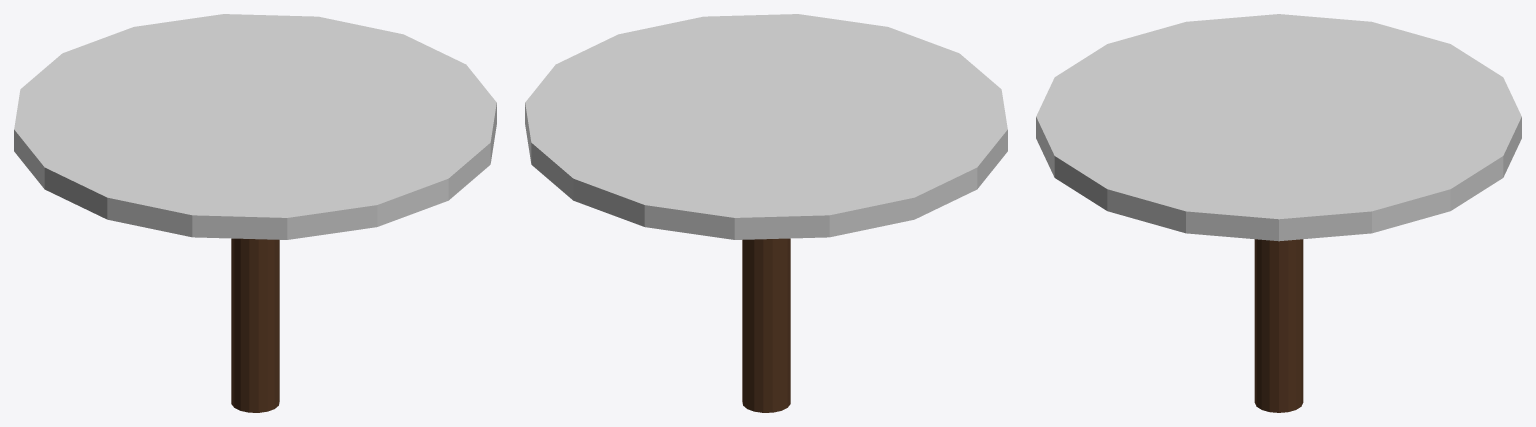
Rendered from mesa_redonda.glb.
3 renders of one model, left to right at view 1: azimuth 30°, elevation 25°; view 2: azimuth 150°, elevation 25°; view 3: azimuth 270°, elevation 25°, orthographic.
Parts seen in each view (by area): view 1: mesa_redonda; view 2: mesa_redonda; view 3: mesa_redonda.
Boxes of the visible parts, bbox=[...] form: mesa_redonda: bbox=[14, 14, 496, 412]; mesa_redonda: bbox=[525, 14, 1007, 412]; mesa_redonda: bbox=[1036, 14, 1521, 412].
Bounding box in the file's own units: 1.2 × 0.78 × 1.2.
